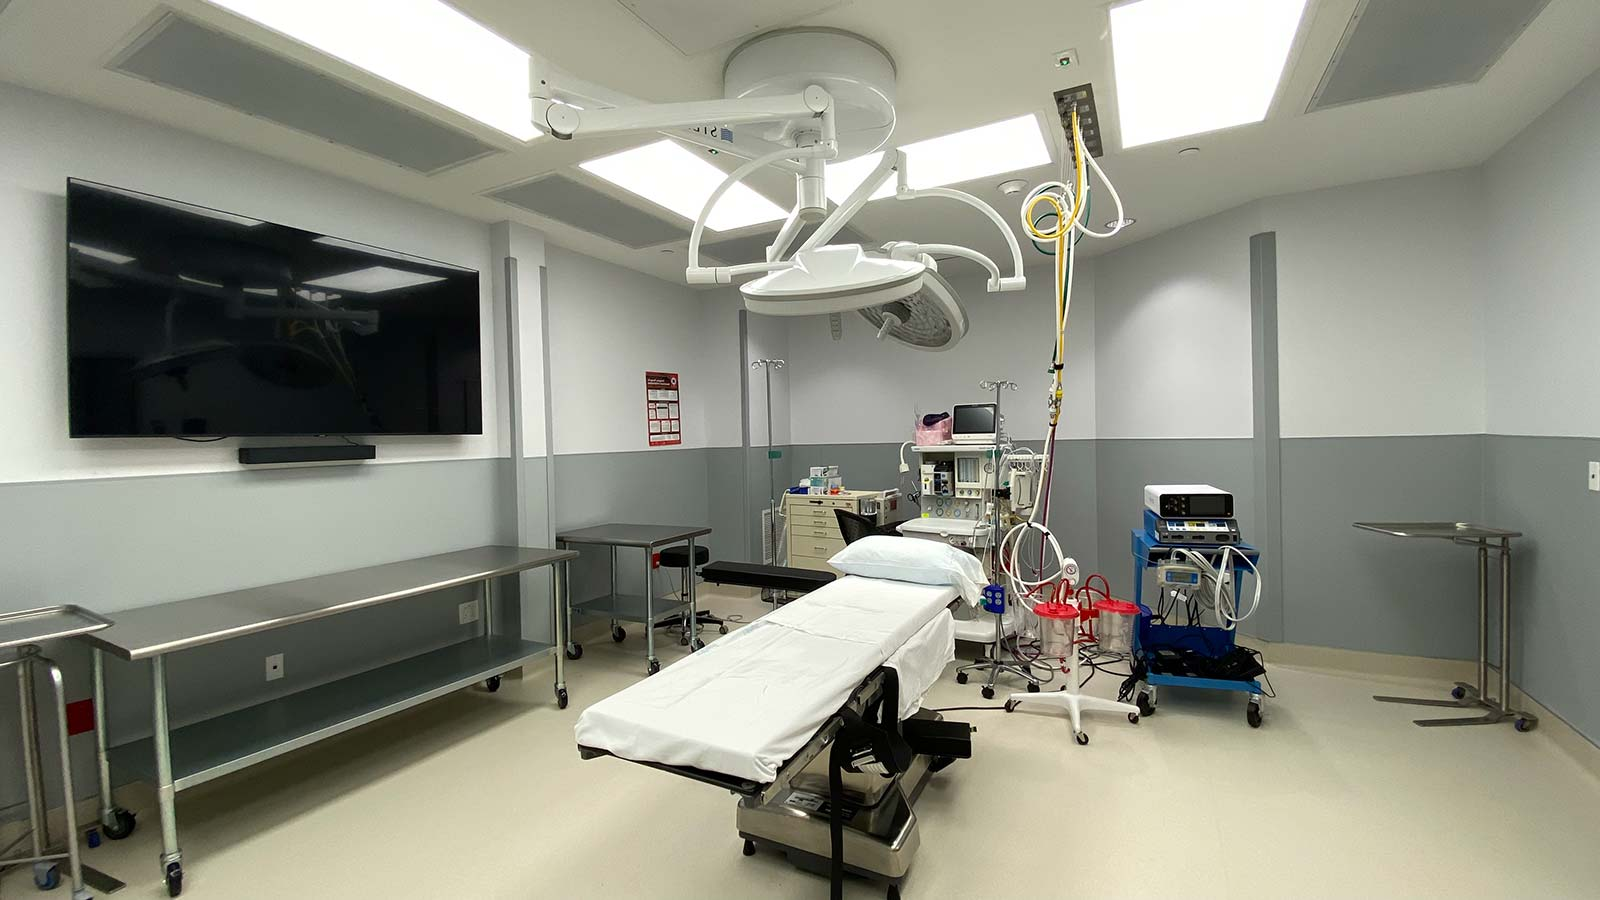TV: (70, 176, 482, 438)
bedside_monitor: (954, 407, 995, 436)
electrosurgical_unit: (1141, 510, 1251, 552)
iv_pole: (978, 374, 1015, 662), (749, 358, 791, 607)
medical_drawer: (785, 486, 893, 568)
operating_bed: (581, 531, 988, 877)
surgical_light: (733, 244, 921, 315), (859, 257, 968, 351)
utility_cart: (82, 541, 579, 890), (1354, 516, 1534, 735), (1, 599, 116, 900), (560, 519, 712, 673)
